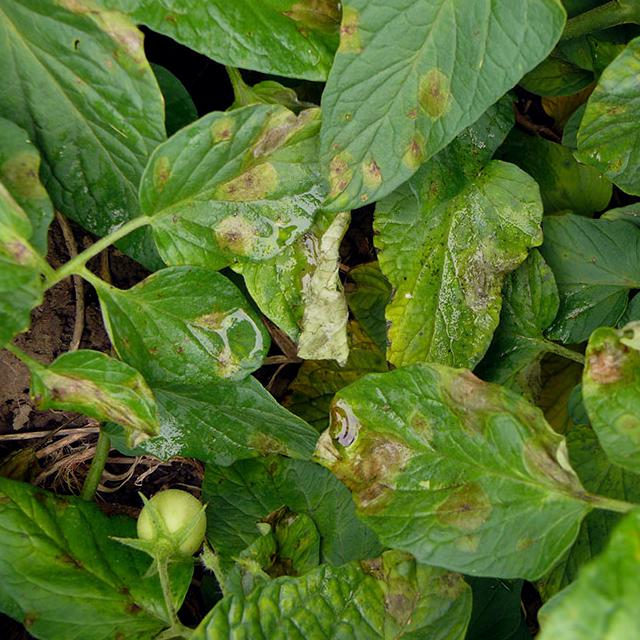Tomato leaf late blight: (293, 0, 631, 259), (318, 348, 590, 596), (338, 128, 530, 390), (119, 90, 353, 284), (81, 254, 276, 394), (24, 341, 175, 463), (570, 280, 640, 516), (568, 0, 640, 216)
